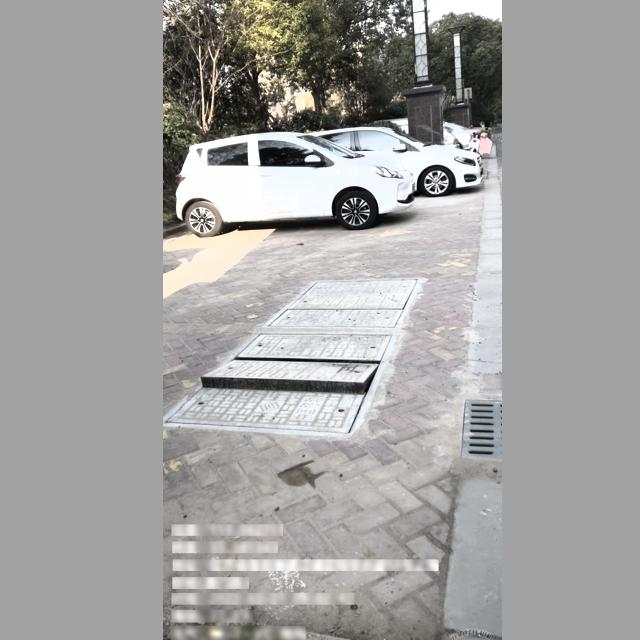good: (266, 274, 420, 329)
uncovered: (162, 331, 397, 437)
